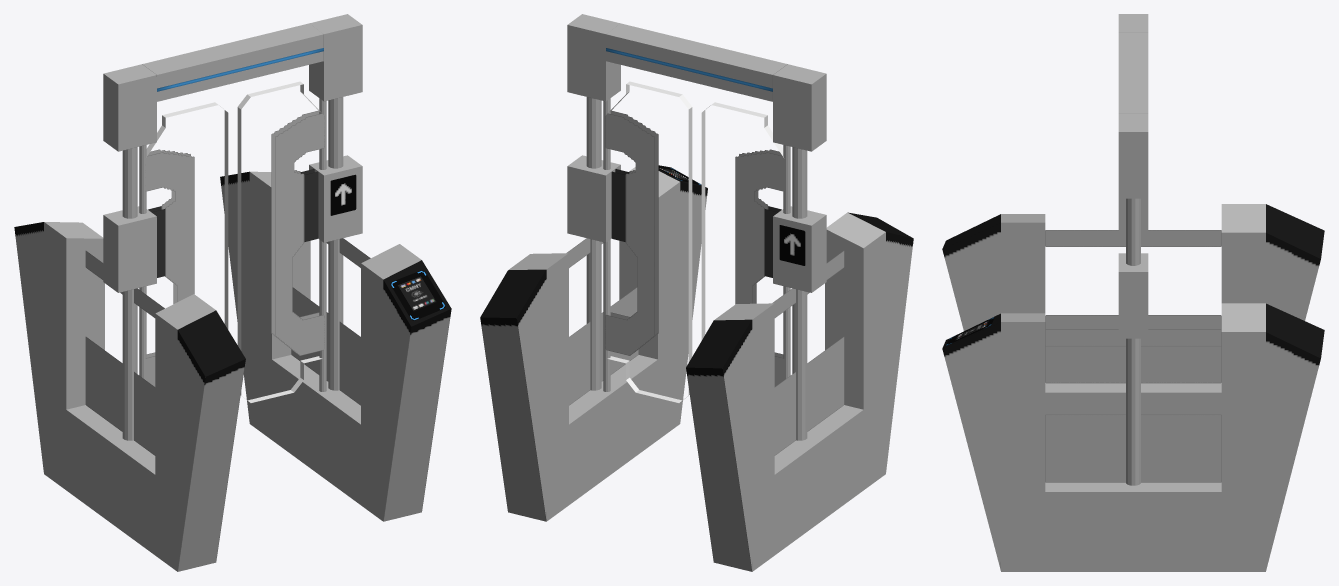
The model's file is nyc_subway_fare_gate_6_twoway_closed.obj.
3 renders of one model, left to right at view 1: azimuth 30°, elevation 25°; view 2: azimuth 150°, elevation 25°; view 3: azimuth 270°, elevation 25°, orthographic.
Parts seen in each view (by area): view 1: cube, left, right; view 2: cube, left, right; view 3: cube, right, left.
Part boxes in pixels (x1=…): cube: x1=14, y1=48, x2=451, y2=571; left: x1=66, y1=14, x2=362, y2=555; right: x1=122, y1=97, x2=370, y2=504; cube: x1=480, y1=48, x2=913, y2=571; left: x1=567, y1=14, x2=863, y2=555; right: x1=566, y1=97, x2=807, y2=504; cube: x1=942, y1=204, x2=1324, y2=571; right: x1=1045, y1=198, x2=1221, y2=571; left: x1=1045, y1=14, x2=1221, y2=414.
Bounding box in the file's own units: 1.19 × 2.06 × 1.62.
Materials: 1 (1 with a texture image).
